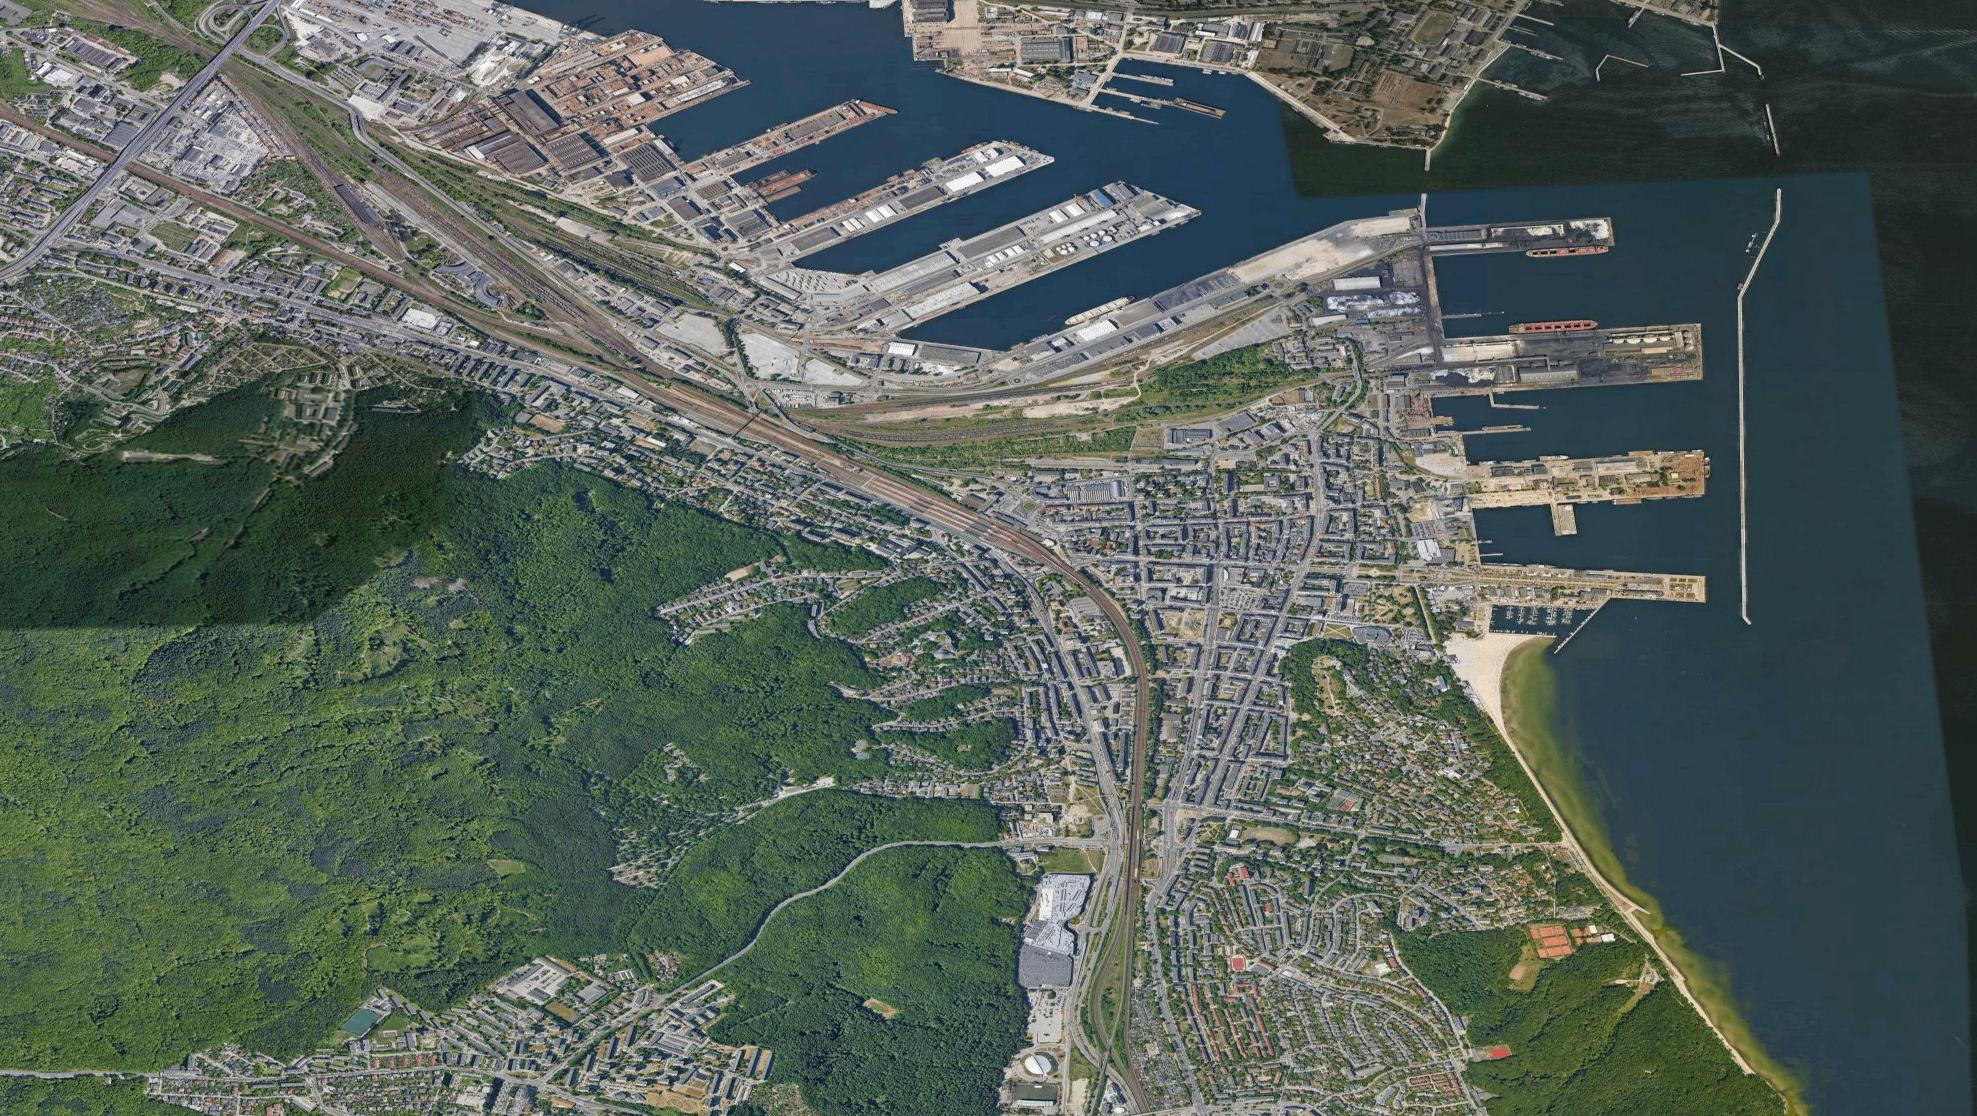harbor: (493, 1, 1261, 364), (1418, 200, 1795, 682), (1375, 1, 1792, 190)
motorway: (1, 130, 155, 282), (149, 1, 280, 133)
train_station: (790, 439, 1052, 562)
